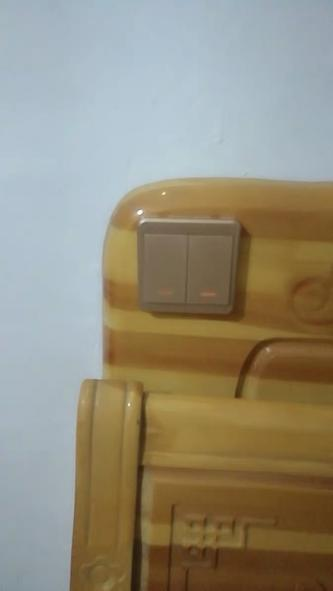switch: (140, 226, 192, 308), (185, 229, 237, 310)
